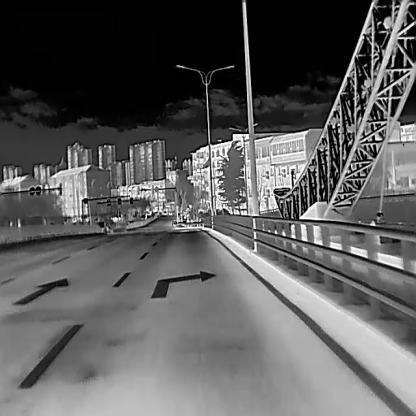car: (96, 220, 104, 231), (139, 213, 146, 220)
